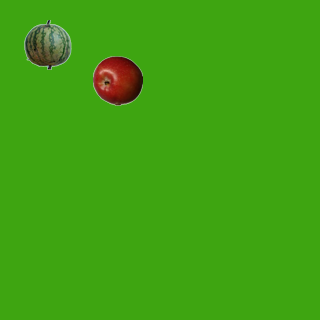Apple Braeburn: (92, 55, 142, 105)
Watermelon: (22, 19, 72, 69)
